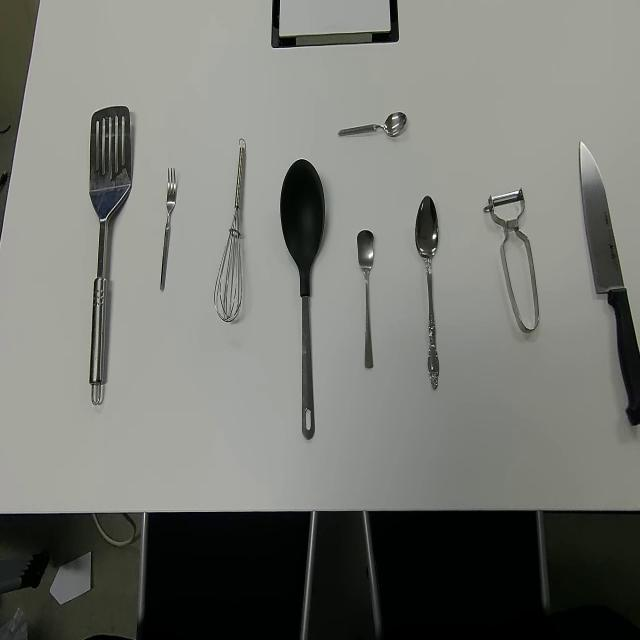Desert-Spoon: (414, 194, 440, 393)
Dinner-Fork: (159, 165, 177, 293)
Kitchen-Knife: (578, 137, 640, 428)
Peeler: (482, 186, 540, 334)
Serving-Spoon: (279, 158, 326, 441), (89, 105, 132, 407)
Tea-Spoon: (356, 228, 375, 370), (337, 109, 408, 138)
Whisk: (213, 136, 247, 324)
